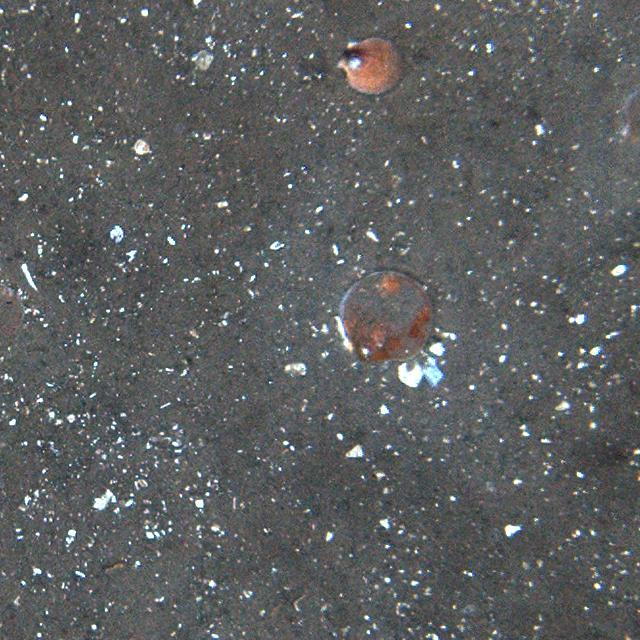scallop: (336, 267, 434, 366), (337, 32, 407, 96)
